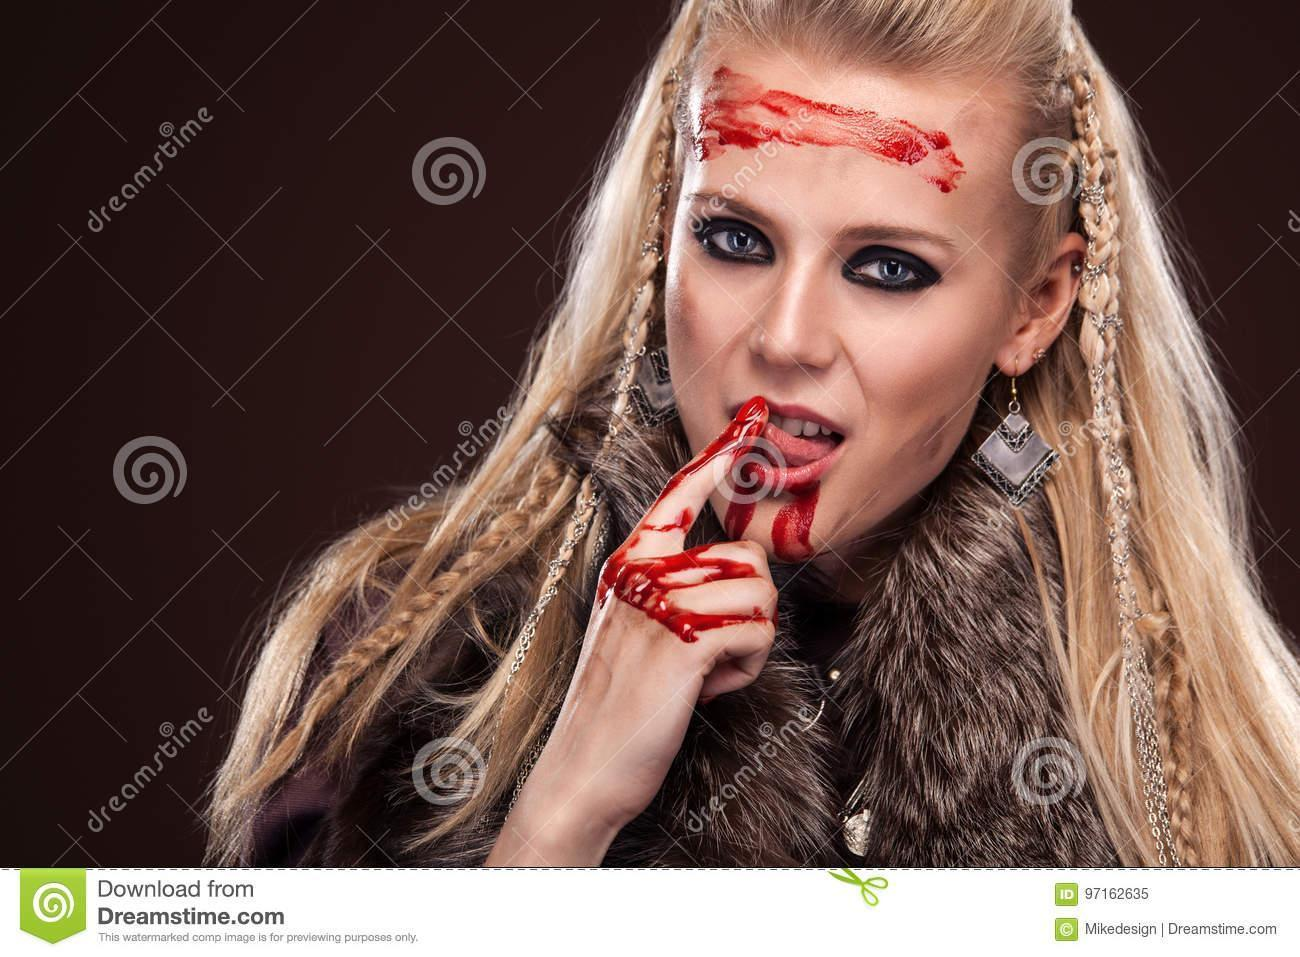Fire: (597, 396, 839, 649), (694, 64, 967, 191)
